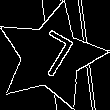L_SW: (24, 27, 78, 86)
